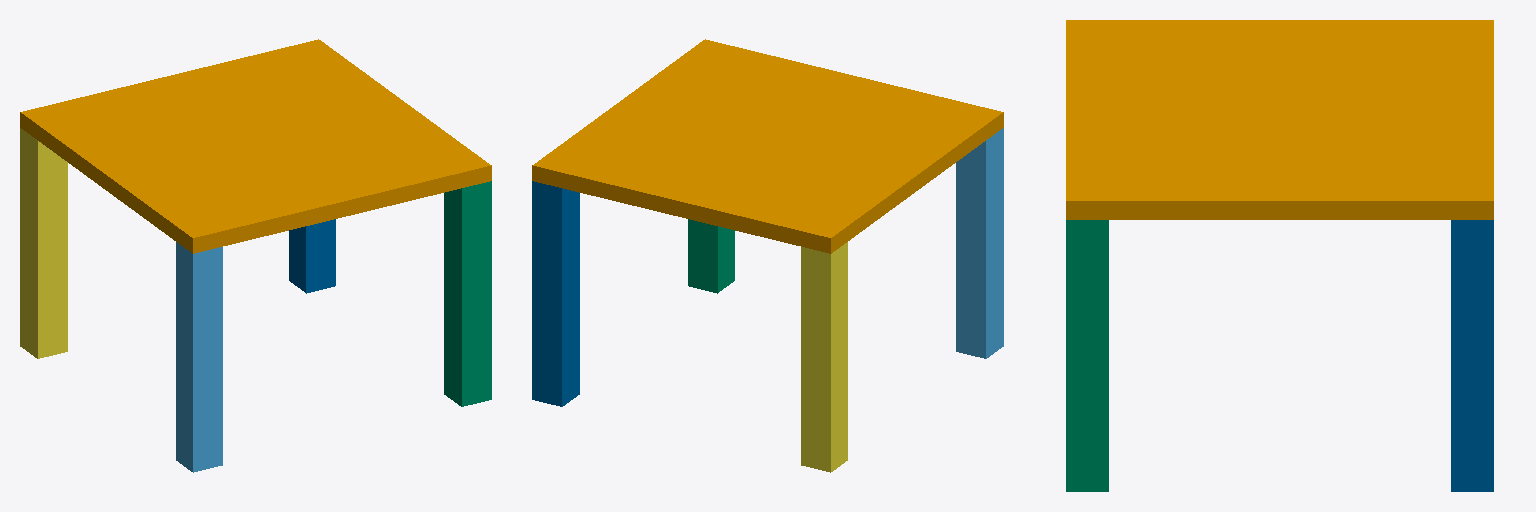
The robot description file, URDF, robot "table":
<?xml version="1.0"?>
<robot name="table">

  <!-- Table top -->
  <link name="table_top">
    <visual>
      <geometry>
        <box size="1 1 0.05"/>
      </geometry>
      <origin xyz="0 0 0.725" rpy="0 0 0"/>
      <material name="brown"/>
    </visual>
    <collision>
      <geometry>
        <box size="1 1 0.05"/>
      </geometry>
      <origin xyz="0 0 0.725" rpy="0 0 0"/>
    </collision>
    <inertial>
      <mass value="5.0"/>
      <inertia ixx="0.1" ixy="0.0" ixz="0.0" iyy="0.1" iyz="0.0" izz="0.1"/>
      <origin xyz="0 0 0.725" rpy="0 0 0"/>
    </inertial>
  </link>

  <!-- Four legs -->
  <link name="leg_fl"> <!-- front-left -->
    <visual>
      <geometry>
        <box size="0.1 0.1 0.7"/>
      </geometry>
      <origin xyz="-0.45 -0.45 0.35" rpy="0 0 0"/>
      <material name="black"/>
    </visual>
    <collision>
      <geometry>
        <box size="0.1 0.1 0.7"/>
      </geometry>
      <origin xyz="-0.45 -0.45 0.35" rpy="0 0 0"/>
    </collision>
    <inertial>
      <mass value="1.0"/>
      <inertia ixx="0.01" ixy="0.0" ixz="0.0" iyy="0.01" iyz="0.0" izz="0.01"/>
      <origin xyz="-0.45 -0.45 0.35" rpy="0 0 0"/>
    </inertial>
  </link>

  <link name="leg_fr"> <!-- front-right -->
    <visual>
      <geometry>
        <box size="0.1 0.1 0.7"/>
      </geometry>
      <origin xyz="0.45 -0.45 0.35" rpy="0 0 0"/>
      <material name="black"/>
    </visual>
    <collision>
      <geometry>
        <box size="0.1 0.1 0.7"/>
      </geometry>
      <origin xyz="0.45 -0.45 0.35" rpy="0 0 0"/>
    </collision>
    <inertial>
      <mass value="1.0"/>
      <inertia ixx="0.01" ixy="0.0" ixz="0.0" iyy="0.01" iyz="0.0" izz="0.01"/>
      <origin xyz="0.45 -0.45 0.35" rpy="0 0 0"/>
    </inertial>
  </link>

  <link name="leg_bl"> <!-- back-left -->
    <visual>
      <geometry>
        <box size="0.1 0.1 0.7"/>
      </geometry>
      <origin xyz="-0.45 0.45 0.35" rpy="0 0 0"/>
      <material name="black"/>
    </visual>
    <collision>
      <geometry>
        <box size="0.1 0.1 0.7"/>
      </geometry>
      <origin xyz="-0.45 0.45 0.35" rpy="0 0 0"/>
    </collision>
    <inertial>
      <mass value="1.0"/>
      <inertia ixx="0.01" ixy="0.0" ixz="0.0" iyy="0.01" iyz="0.0" izz="0.01"/>
      <origin xyz="-0.45 0.45 0.35" rpy="0 0 0"/>
    </inertial>
  </link>

  <link name="leg_br"> <!-- back-right -->
    <visual>
      <geometry>
        <box size="0.1 0.1 0.7"/>
      </geometry>
      <origin xyz="0.45 0.45 0.35" rpy="0 0 0"/>
      <material name="black"/>
    </visual>
    <collision>
      <geometry>
        <box size="0.1 0.1 0.7"/>
      </geometry>
      <origin xyz="0.45 0.45 0.35" rpy="0 0 0"/>
    </collision>
    <inertial>
      <mass value="1.0"/>
      <inertia ixx="0.01" ixy="0.0" ixz="0.0" iyy="0.01" iyz="0.0" izz="0.01"/>
      <origin xyz="0.45 0.45 0.35" rpy="0 0 0"/>
    </inertial>
  </link>

  <!-- Fixed joints connecting legs to table top -->
  <joint name="joint_fl" type="fixed">
    <parent link="table_top"/>
    <child link="leg_fl"/>
    <origin xyz="0 0 0" rpy="0 0 0"/>
  </joint>

  <joint name="joint_fr" type="fixed">
    <parent link="table_top"/>
    <child link="leg_fr"/>
    <origin xyz="0 0 0" rpy="0 0 0"/>
  </joint>

  <joint name="joint_bl" type="fixed">
    <parent link="table_top"/>
    <child link="leg_bl"/>
    <origin xyz="0 0 0" rpy="0 0 0"/>
  </joint>

  <joint name="joint_br" type="fixed">
    <parent link="table_top"/>
    <child link="leg_br"/>
    <origin xyz="0 0 0" rpy="0 0 0"/>
  </joint>

</robot>

--- Facts derived from the render (not from the file) ---
Views: 3 orthographic renders of the robot side by side, from view 1: azimuth 30°, elevation 25°; view 2: azimuth 150°, elevation 25°; view 3: azimuth 270°, elevation 25°.
Model table with 5 links and 4 joints (4 fixed), rooted at table_top, posed all joints at 0.
Visible links, largest first — view 1: table_top, leg_fr, leg_fl, leg_bl, leg_br; view 2: table_top, leg_br, leg_bl, leg_fl, leg_fr; view 3: table_top, leg_fr, leg_br.
Boxes of the visible links, bbox=[...] form: table_top: bbox=[20, 39, 491, 253]; leg_fr: bbox=[444, 181, 491, 406]; leg_fl: bbox=[176, 242, 222, 472]; leg_bl: bbox=[20, 128, 67, 358]; leg_br: bbox=[289, 219, 335, 293]; table_top: bbox=[532, 39, 1003, 253]; leg_br: bbox=[532, 181, 579, 406]; leg_bl: bbox=[801, 242, 847, 472]; leg_fl: bbox=[956, 128, 1003, 358]; leg_fr: bbox=[688, 219, 734, 293]; table_top: bbox=[1066, 20, 1493, 219]; leg_fr: bbox=[1066, 220, 1108, 491]; leg_br: bbox=[1451, 220, 1493, 491].
Bounding box of the posed robot: 1 × 1 × 0.75 m (x, y, z).
Geometry: primitives only (box / cylinder / sphere), no mesh files.
